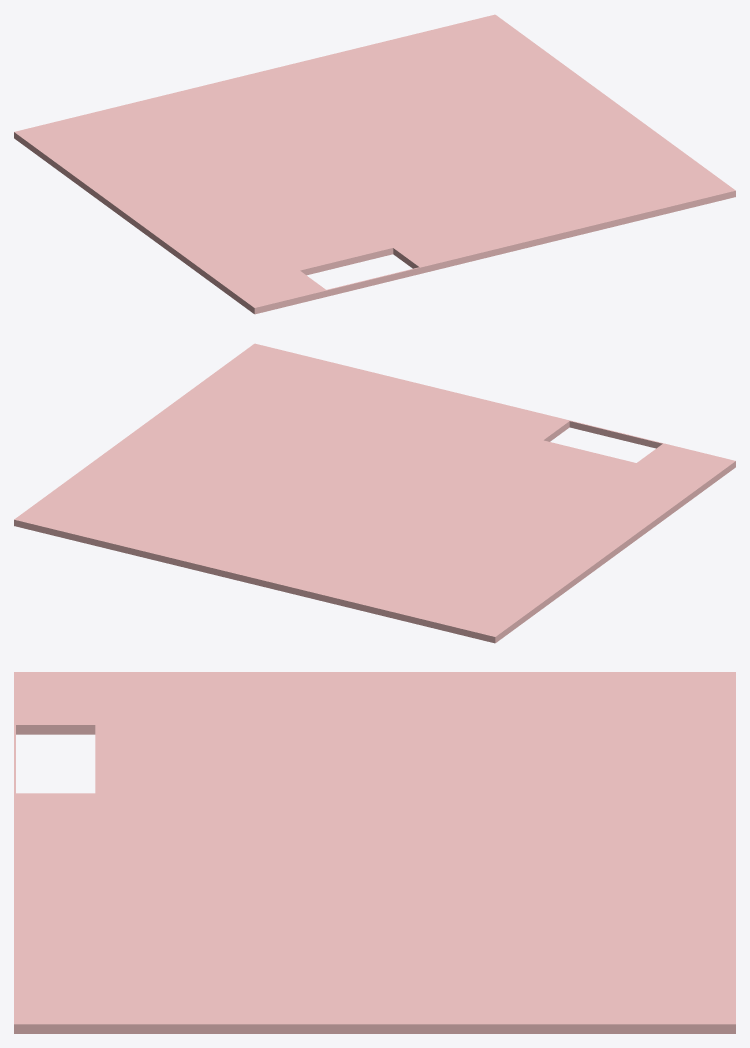
The model's file is EntreTecho.obj.
3 renders of one model, top to bottom at view 1: azimuth 30°, elevation 25°; view 2: azimuth 150°, elevation 25°; view 3: azimuth 270°, elevation 25°, orthographic. The views are drawn at different scales.
Visible parts, largest first — view 1: pCube14; view 2: pCube14; view 3: pCube14.
Part boxes in pixels (<box>): pCube14: <box>14,14,735,314</box>; pCube14: <box>14,343,735,643</box>; pCube14: <box>14,672,735,1033</box>.
Bounding box in the file's own units: 20.93 × 0.266 × 18.12.
4 materials, 4 textured.
